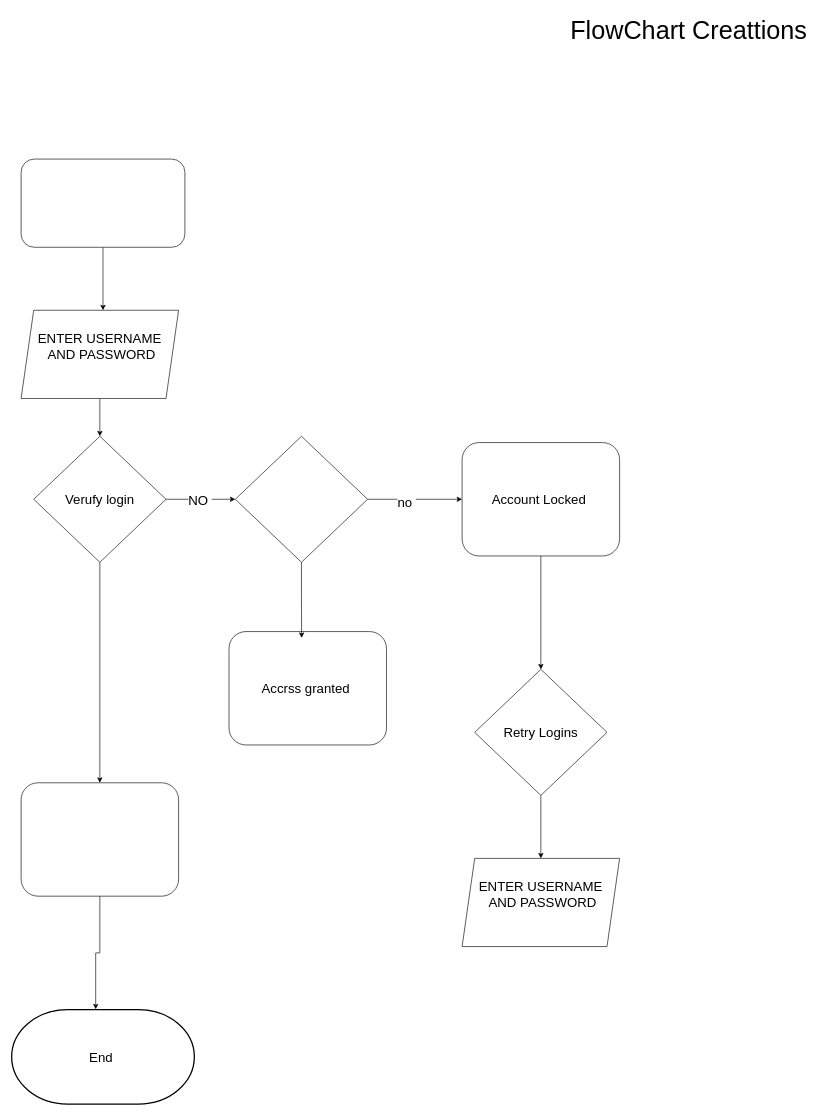
Image size: 832x1115. Some labels were removed from this diagram. Here are the shapes that lost their labels. From the top down, the centre of each, then its label:
At point (102, 202): "START".
At point (301, 499): "Attmpted max logins".
At point (99, 839): "Login Sucessfully".
